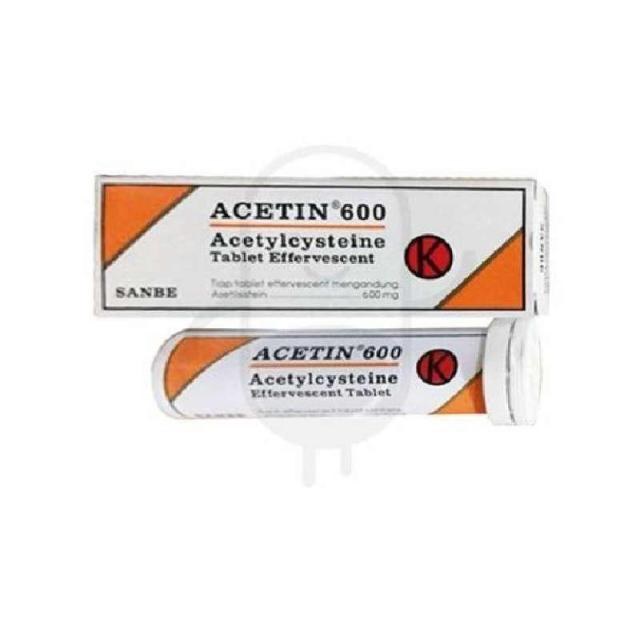drug-name: (208, 198, 389, 225)
